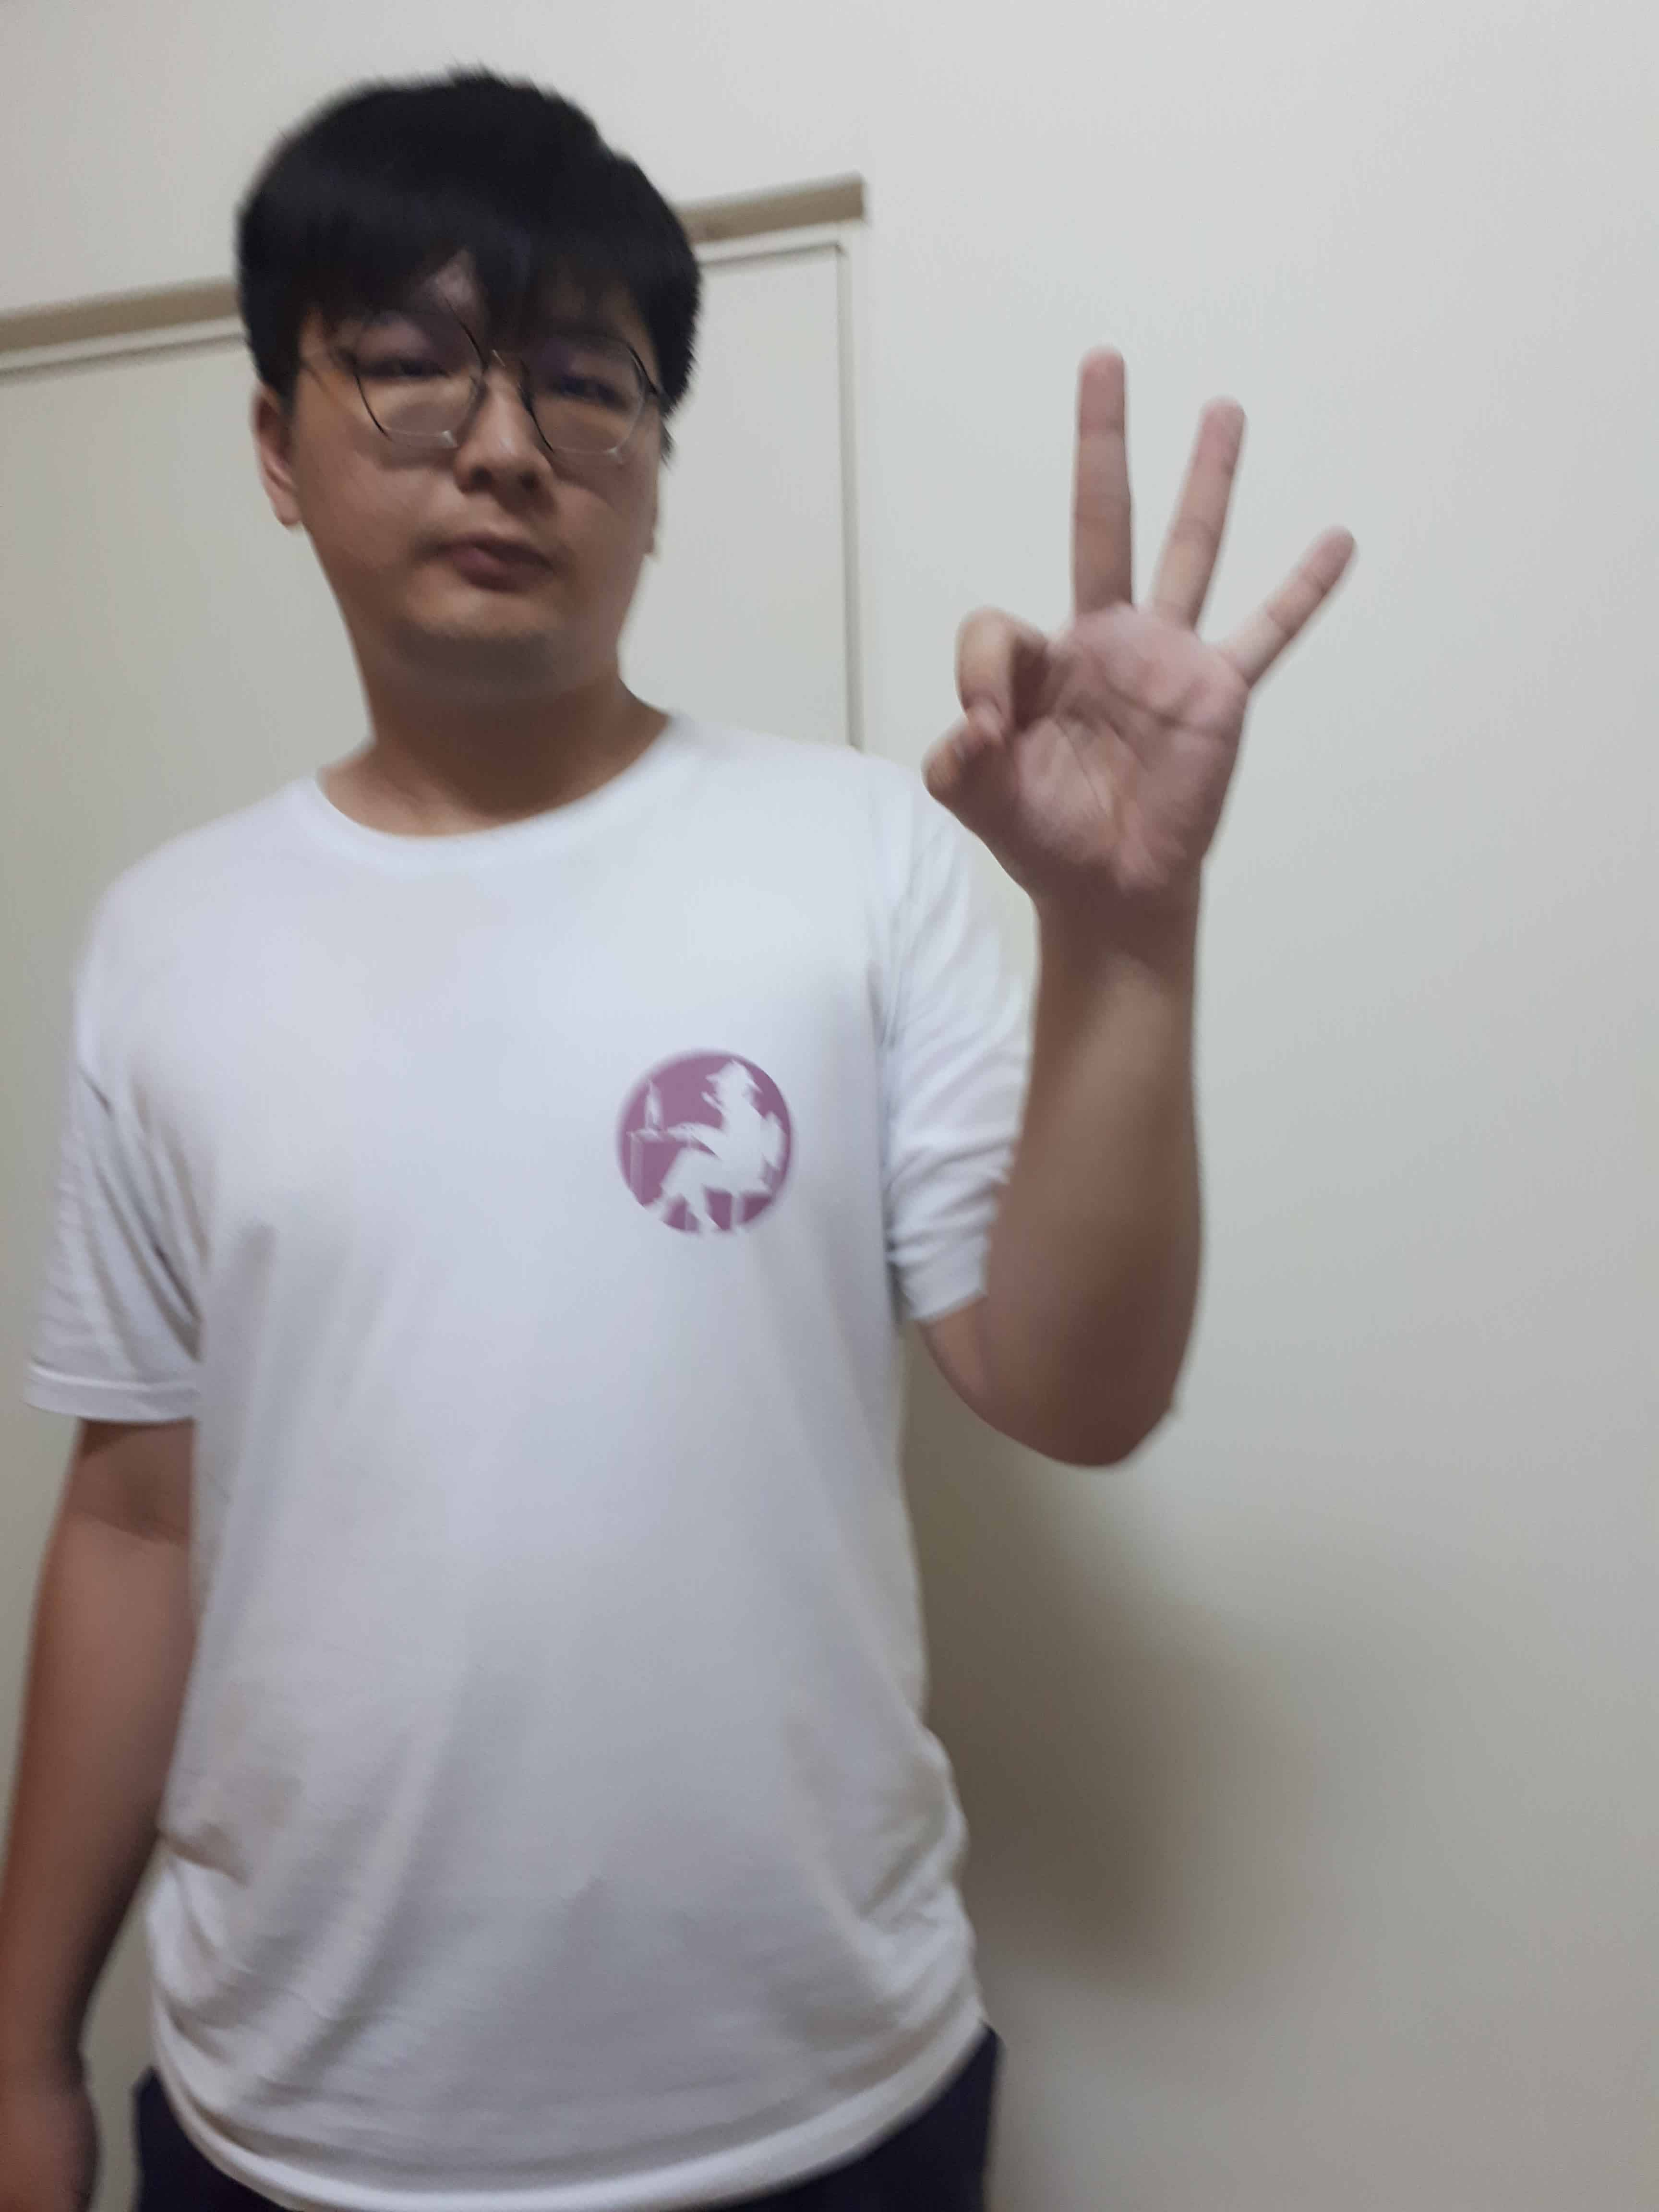ok: (915, 338, 1380, 925)
